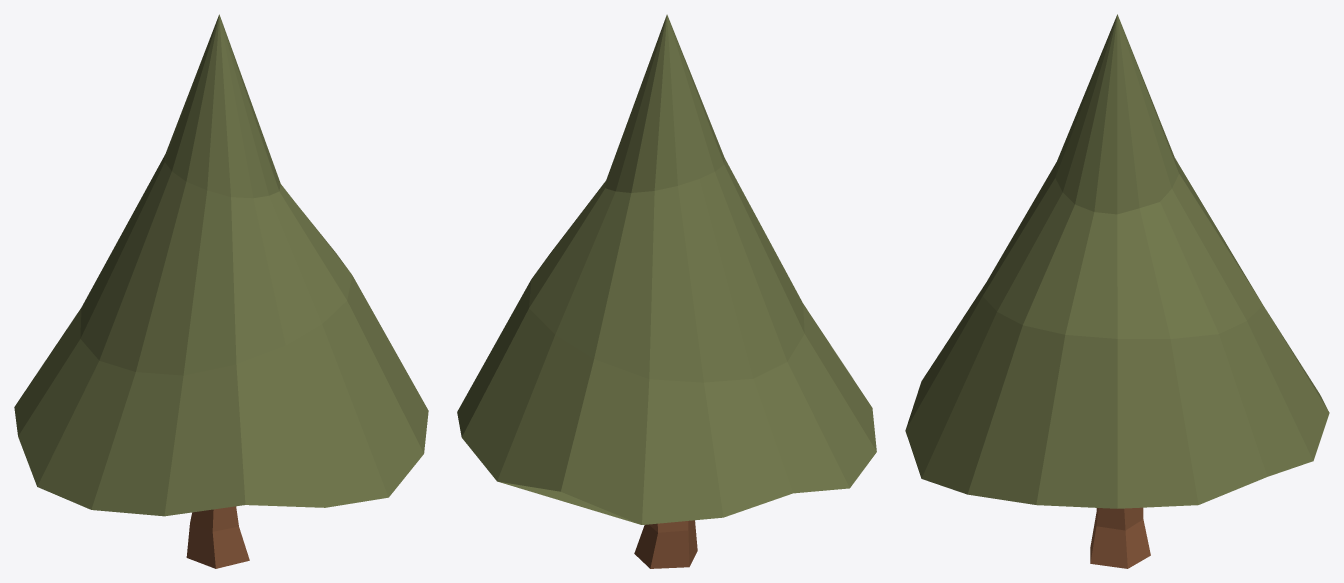
File: Tree_08.fbx
The picture shows the model from 3 angles, left to right: view 1: azimuth 30°, elevation 25°; view 2: azimuth 150°, elevation 25°; view 3: azimuth 270°, elevation 25°; orthographic projection.
Parts seen in each view (by area): view 1: Cone, Cylinder.011; view 2: Cone, Cylinder.011; view 3: Cone, Cylinder.011.
Boxes of the visible parts, box(x1,y1,x2,y2) form: Cone: box(14, 14, 428, 516); Cylinder.011: box(186, 506, 249, 568); Cone: box(457, 14, 876, 524); Cylinder.011: box(634, 520, 697, 568); Cone: box(905, 14, 1329, 508); Cylinder.011: box(1090, 507, 1150, 568).
Size of the model in its own units: 251 by 356 by 253.
